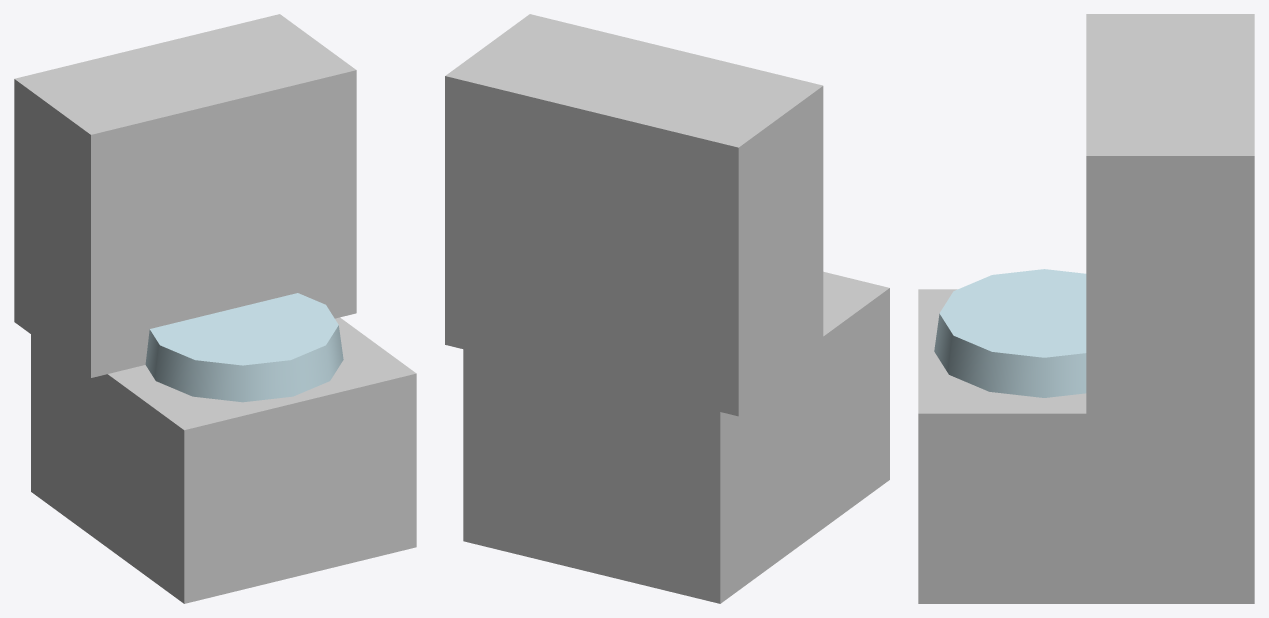
Rendered from toilet.glb.
3 renders of one model, left to right at view 1: azimuth 30°, elevation 25°; view 2: azimuth 150°, elevation 25°; view 3: azimuth 270°, elevation 25°, orthographic. The views are drawn at different scales.
Visible parts, largest first — view 1: toilet; view 2: toilet; view 3: toilet.
Part boxes in pixels (left/top/right/bottom): toilet: left=14, top=14, right=416, bottom=603; toilet: left=445, top=14, right=889, bottom=603; toilet: left=918, top=14, right=1254, bottom=603.
Size of the model in its own units: 16 by 24 by 16.
